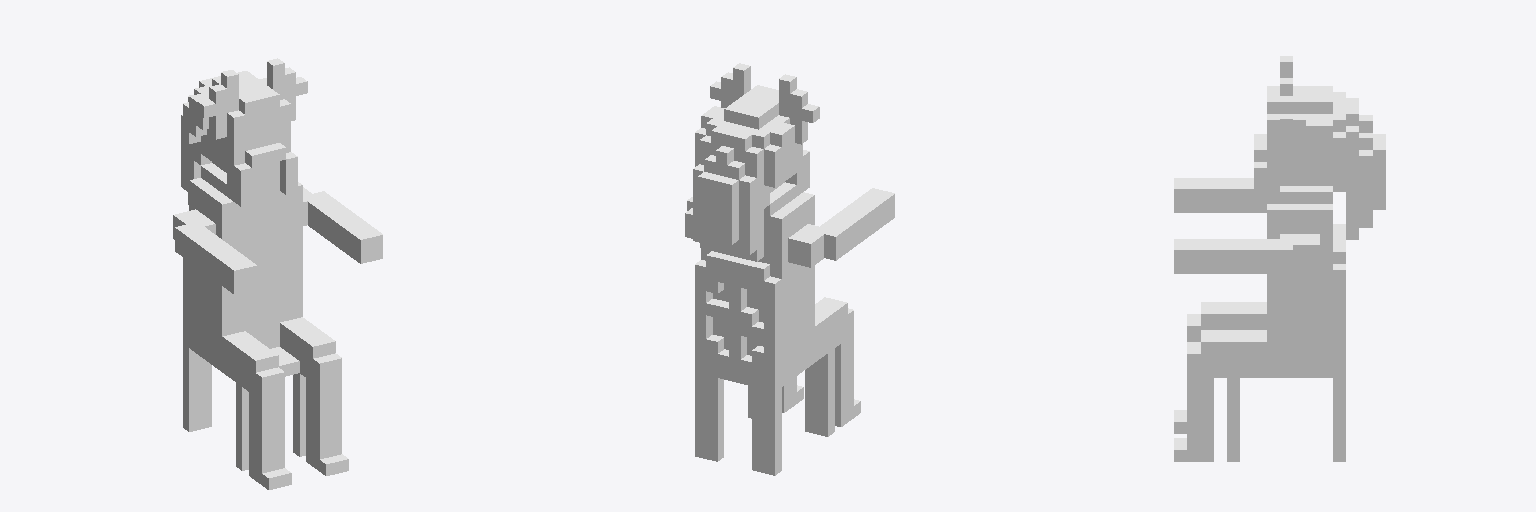
File: Opponent.obj
3 renders of one model, left to right at view 1: azimuth 30°, elevation 25°; view 2: azimuth 150°, elevation 25°; view 3: azimuth 270°, elevation 25°, orthographic.
Visible parts, largest first — view 1: object 1; view 2: object 1; view 3: object 1.
Part boxes in pixels (left/top/right/bottom): object 1: left=173, top=58, right=382, bottom=489; object 1: left=685, top=63, right=894, bottom=475; object 1: left=1174, top=56, right=1385, bottom=461.
Bounding box in the file's own units: 1.3 × 3.1 × 1.6.